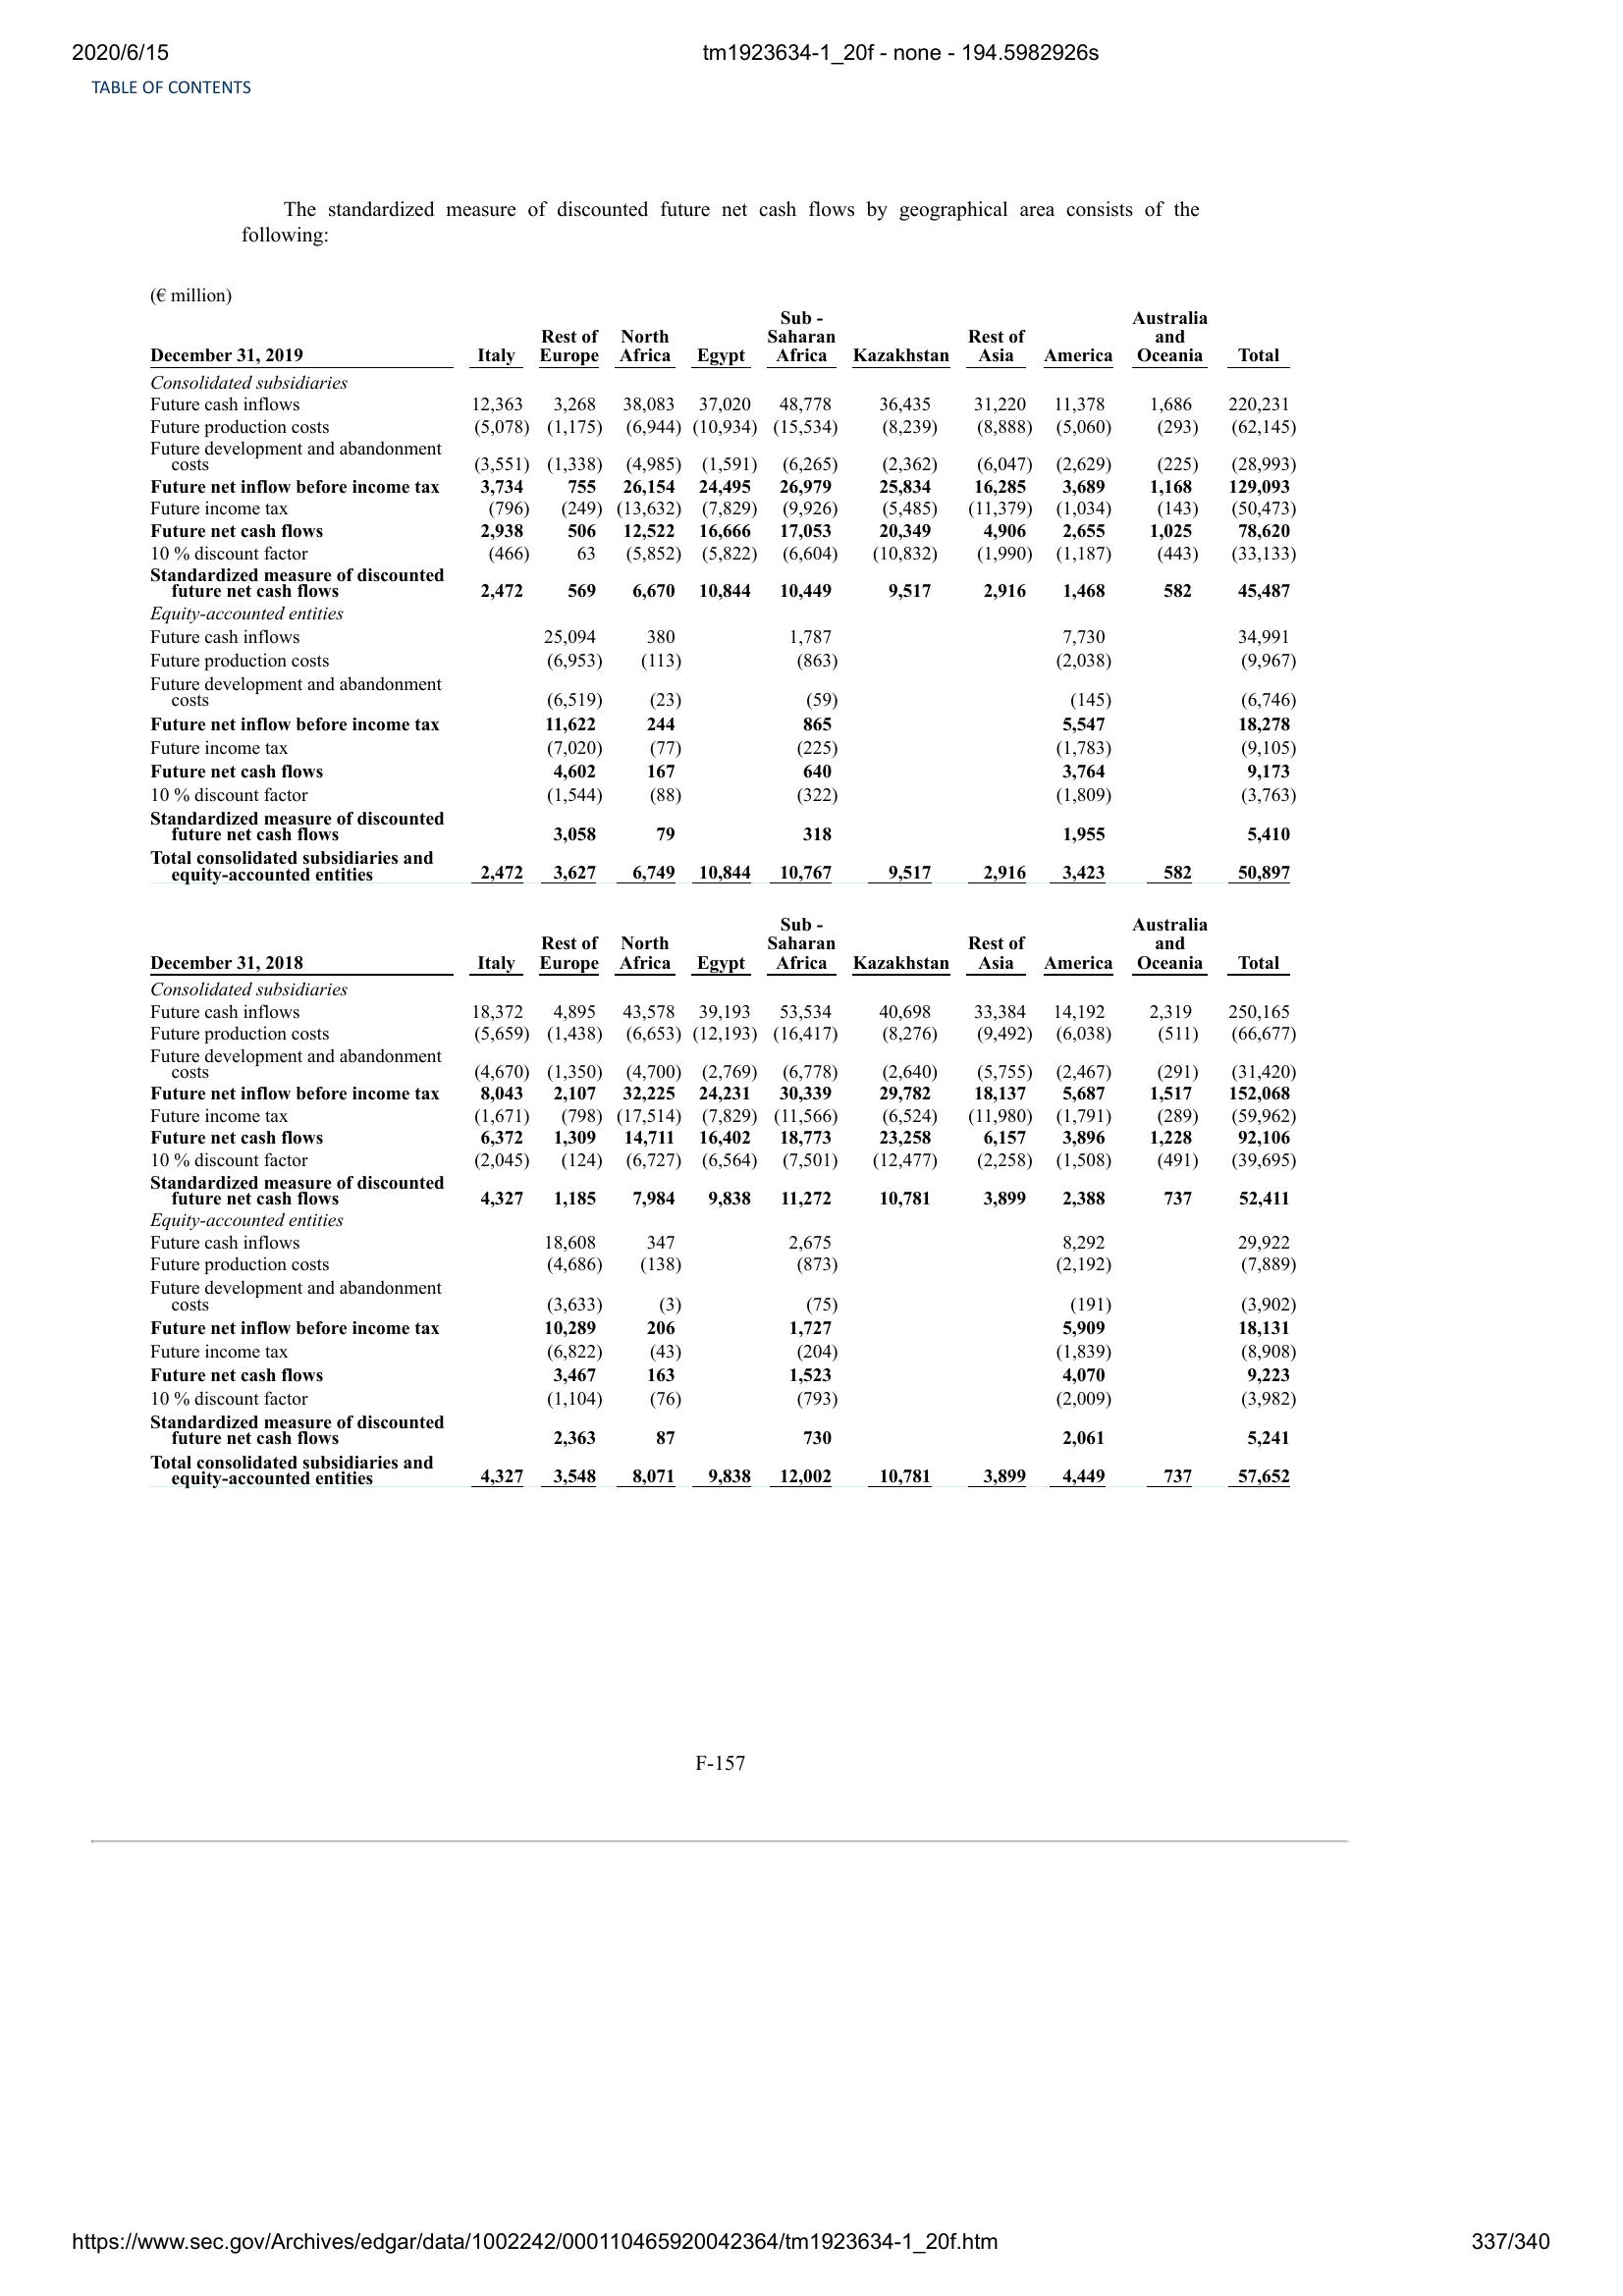table: (146, 305, 1300, 888), (144, 915, 1302, 1490)
